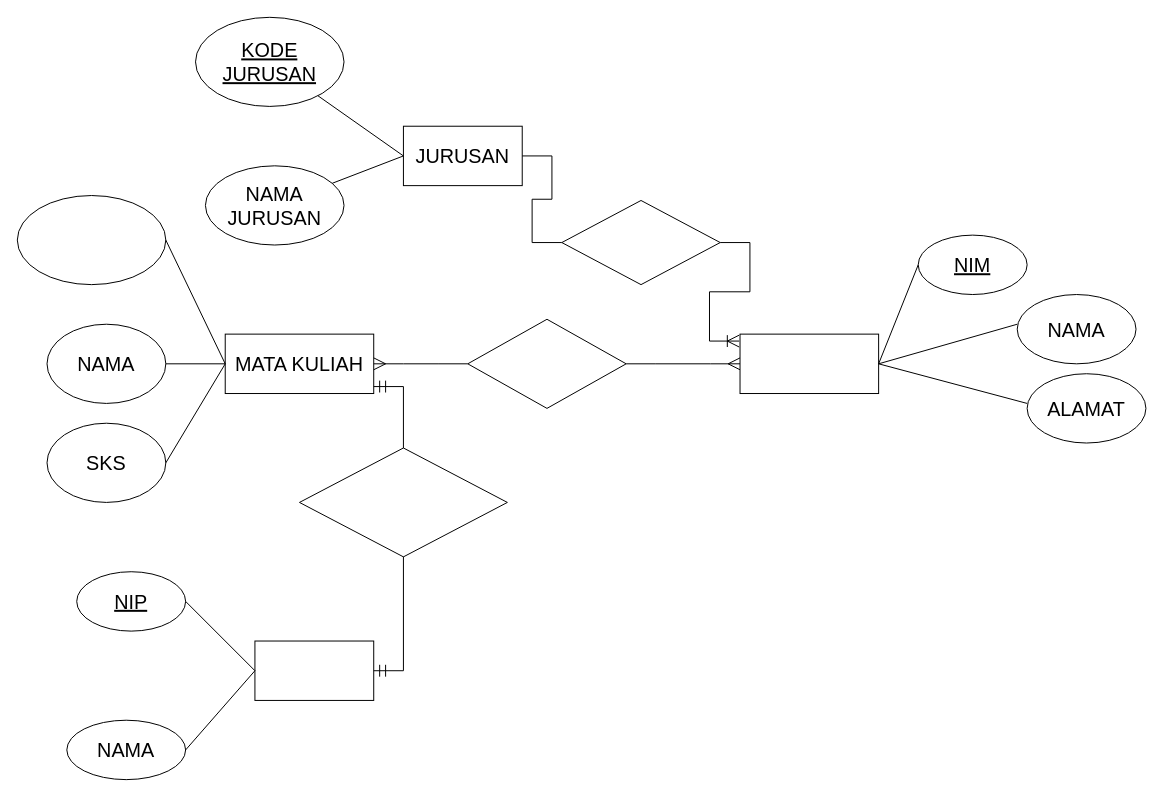
Some shapes in this 1163 by 797 pixel diagram are drawn without their labels. The shapes that lost their labels are listed below. From the top down, each one's centre as x and y in pixels, then its label:
point 91,240: KODE MATA KULIAH
point 640,242: CONTAIN
point 546,363: KONTRAK
point 809,363: MAHASISWA
point 402,502: MENGAJAR
point 314,670: DOSEN
